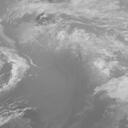cyclone: (36, 28, 95, 82)
